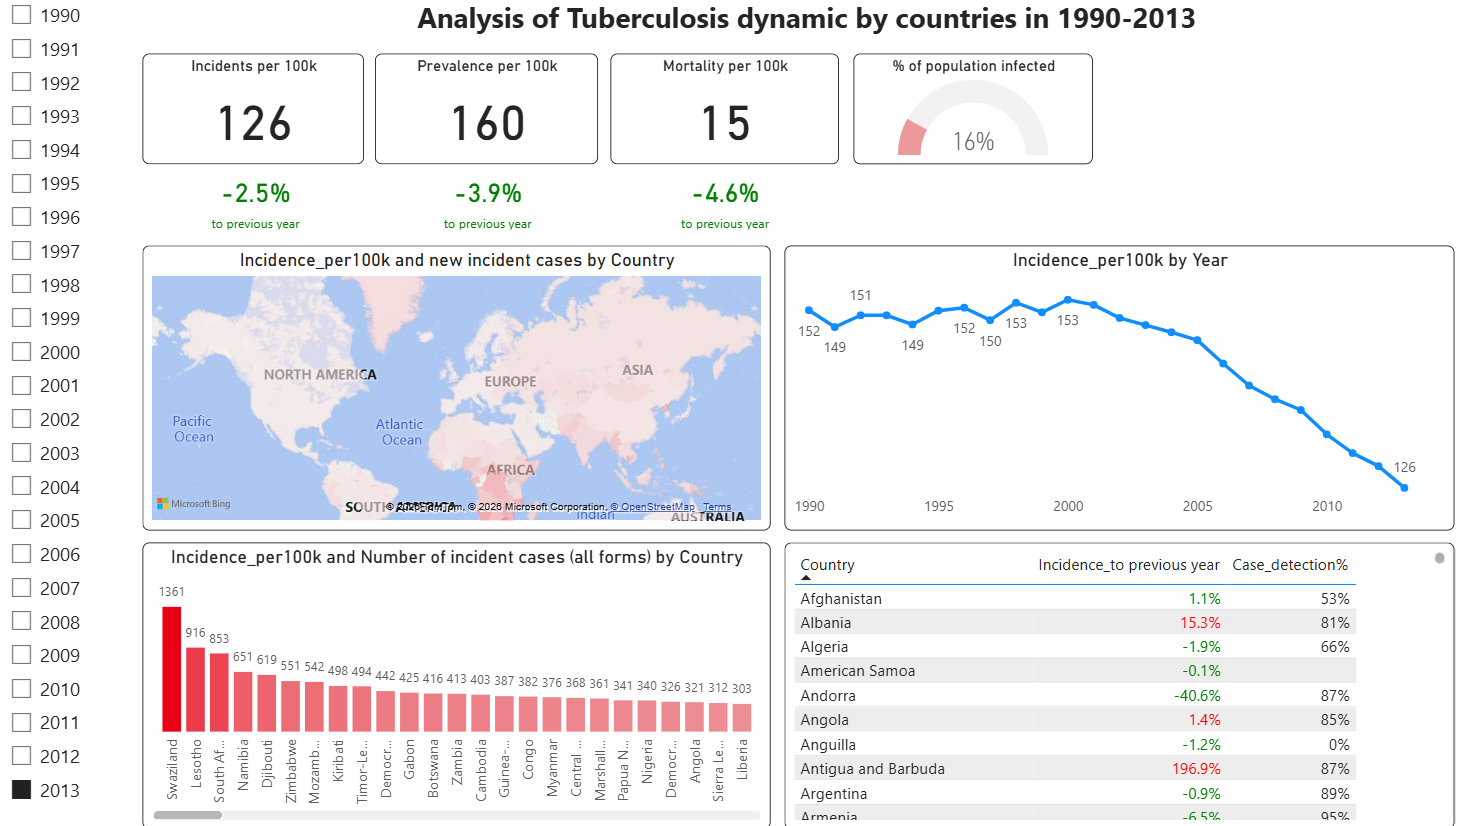

This screenshot's page, from the dashboard's own definition file:
{"tool":"powerbi","page":{"name":"Page 1","canvas":[1280,720],"ordinal":0},"visuals":[{"type":"filledMap","title":"Incidence_per100k and new incident cases by Country","fields":{"Category":["TB_Burden_Country.Country or territory name"]},"box":[125.7,218,540.6,245.3],"z":0},{"type":"card","title":"Prevalence per 100k","fields":{"Values":["Table_Measures.Prevalence_per100k"]},"box":[325.6,53,192.3,95.4],"z":1000},{"type":"card","title":"Mortality per 100k","fields":{"Values":["Table_Measures.Mortality_per100K"]},"box":[528.5,53,196.8,95.4],"z":2000},{"type":"slicer","fields":{"Values":["DateTable.Date.Variation.Date Hierarchy.Year"]},"box":[0,0,115.6,720],"z":3000},{"type":"card","title":"Incidents per 100k","fields":{"Values":["Table_Measures.Incidents_per100k"]},"box":[125.7,53,190.8,95.4],"z":4000},{"type":"gauge","title":"% of population infected","fields":{"Y":["Table_Measures.%_of_sick_population"]},"box":[737.4,53,205.9,95.4],"z":5000},{"type":"lineChart","fields":{"Category":["TB_Burden_Country.Year"],"Y":["Table_Measures.Incidence_per100k"]},"box":[678.4,218,576.9,245.3],"z":6000},{"type":"clusteredColumnChart","fields":{"Category":["TB_Burden_Country.Country or territory name"],"Y":["Table_Measures.Incidence_per100k"]},"box":[125.7,473.9,540.6,246.8],"z":7000},{"type":"card","fields":{"Values":["Table_Measures.Diff_inc_YoY"]},"box":[126.2,148.8,191.4,60.7],"z":8000},{"type":"card","fields":{"Values":["Table_Measures.Diff_prev_per100k_YoY"]},"box":[325.8,148.9,193.4,60.7],"z":9000},{"type":"card","fields":{"Values":["Table_Measures.Diff_mort_per100k_YoY"]},"box":[528.5,148.9,196.5,60.7],"z":10000},{"type":"tableEx","fields":{"Values":["TB_Burden_Country.Country or territory name","Table_Measures.Diff_inc_per100k_YoY","Table_Measures.Case_detection%"]},"box":[678.4,473.9,576.9,246.8],"z":12000},{"type":"textbox","box":[115.1,0,1164.4,53],"z":12001}]}

Visuals, with their boxes in screenshot pixels (x1, y1, x2, y2), scaled from the page's 1280x720 canvas onto the 1462x826 screenshot:
"Incidence_per100k and new incident cases by Country" filledMap: 144, 250, 761, 532
"Prevalence per 100k" card: 372, 61, 592, 170
"Mortality per 100k" card: 604, 61, 828, 170
slicer - DateTable.Date.Variation.Date Hierarchy.Year: 0, 0, 132, 825
"Incidents per 100k" card: 144, 61, 362, 170
"% of population infected" gauge: 842, 61, 1077, 170
lineChart - TB_Burden_Country.Year x Table_Measures.Incidence_per100k: 775, 250, 1434, 532
clusteredColumnChart - TB_Burden_Country.Country or territory name x Table_Measures.Incidence_per100k: 144, 544, 761, 825
card - Table_Measures.Diff_inc_YoY: 144, 171, 363, 240
card - Table_Measures.Diff_prev_per100k_YoY: 372, 171, 593, 240
card - Table_Measures.Diff_mort_per100k_YoY: 604, 171, 828, 240
tableEx - TB_Burden_Country.Country or territory name x Table_Measures.Diff_inc_per100k_YoY: 775, 544, 1434, 825
textbox: 131, 0, 1461, 61
